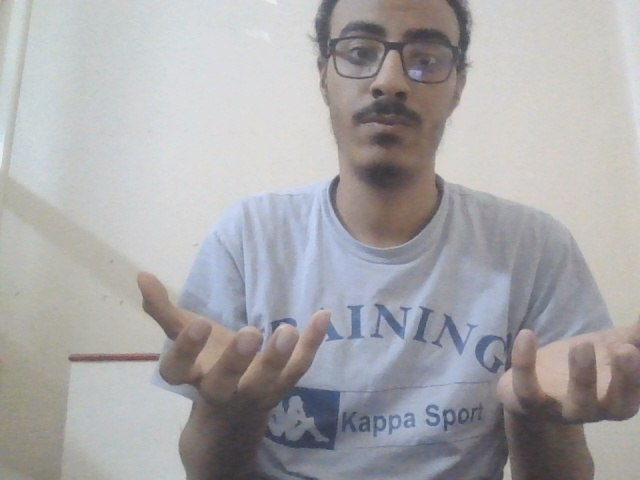What: (130, 267, 640, 428)
